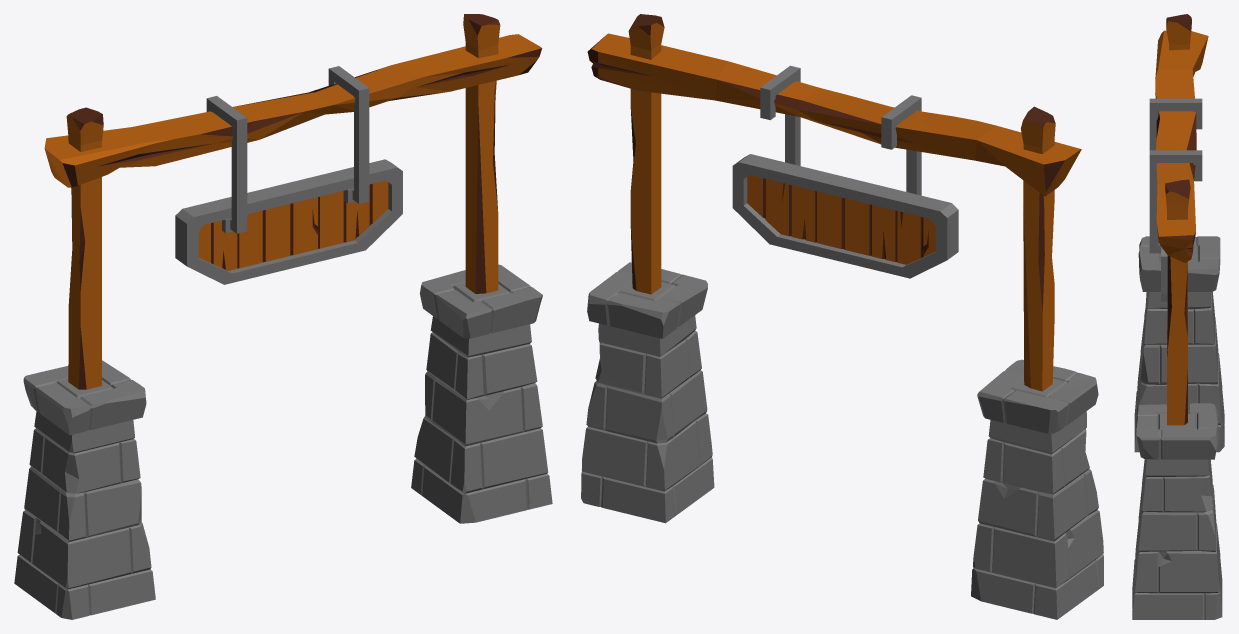
The model's file is Gate.001_5.fbx.
The picture shows the model from 3 angles, left to right: view 1: azimuth 30°, elevation 25°; view 2: azimuth 150°, elevation 25°; view 3: azimuth 270°, elevation 25°; orthographic projection. The views are drawn at different scales.
Visible parts, largest first — view 1: Gate.001_5; view 2: Gate.001_5; view 3: Gate.001_5.
Boxes of the visible parts, <box> form: Gate.001_5: <box>14,14,552,619</box>; Gate.001_5: <box>581,14,1103,619</box>; Gate.001_5: <box>1132,14,1224,619</box>.
Size of the model in its own units: 129 by 120 by 24.09.
